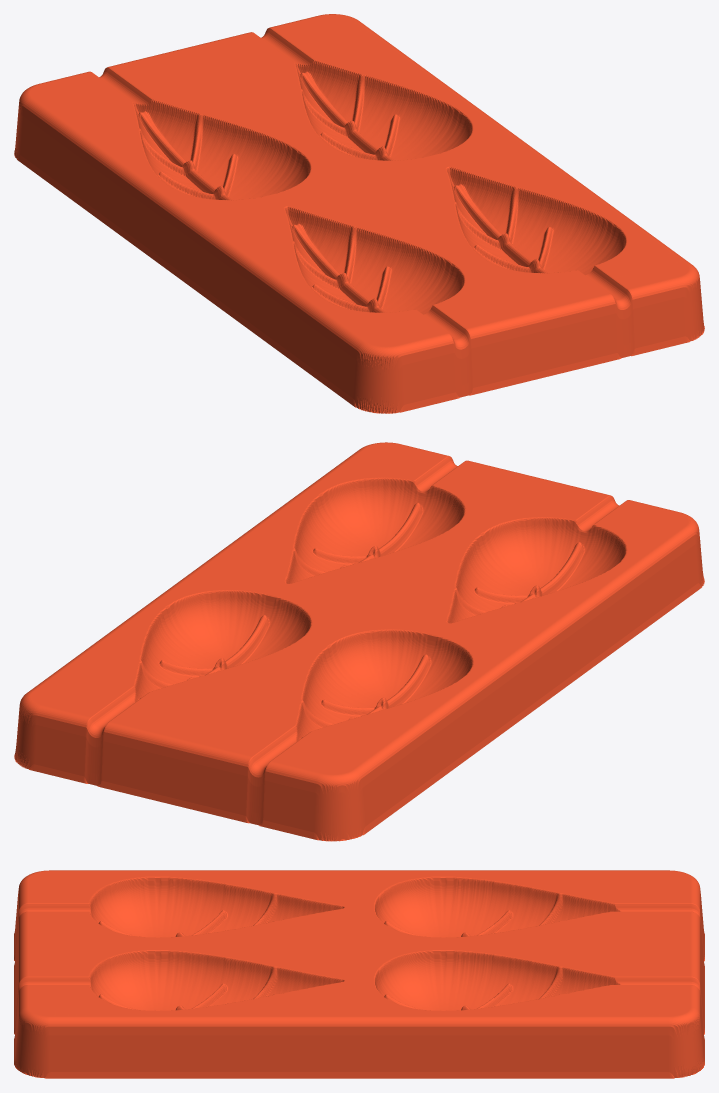
The model's file is mold.glb.
3 renders of one model, top to bottom at view 1: azimuth 30°, elevation 25°; view 2: azimuth 150°, elevation 25°; view 3: azimuth 270°, elevation 25°, orthographic. The views are drawn at different scales.
Parts seen in each view (by area): view 1: geometry_0; view 2: geometry_0; view 3: geometry_0.
Boxes of the visible parts, bbox=[...] form: geometry_0: bbox=[14, 14, 704, 413]; geometry_0: bbox=[14, 442, 704, 841]; geometry_0: bbox=[14, 870, 704, 1078].
Bounding box in the file's own units: 0.0934 × 0.0155 × 0.1735.
